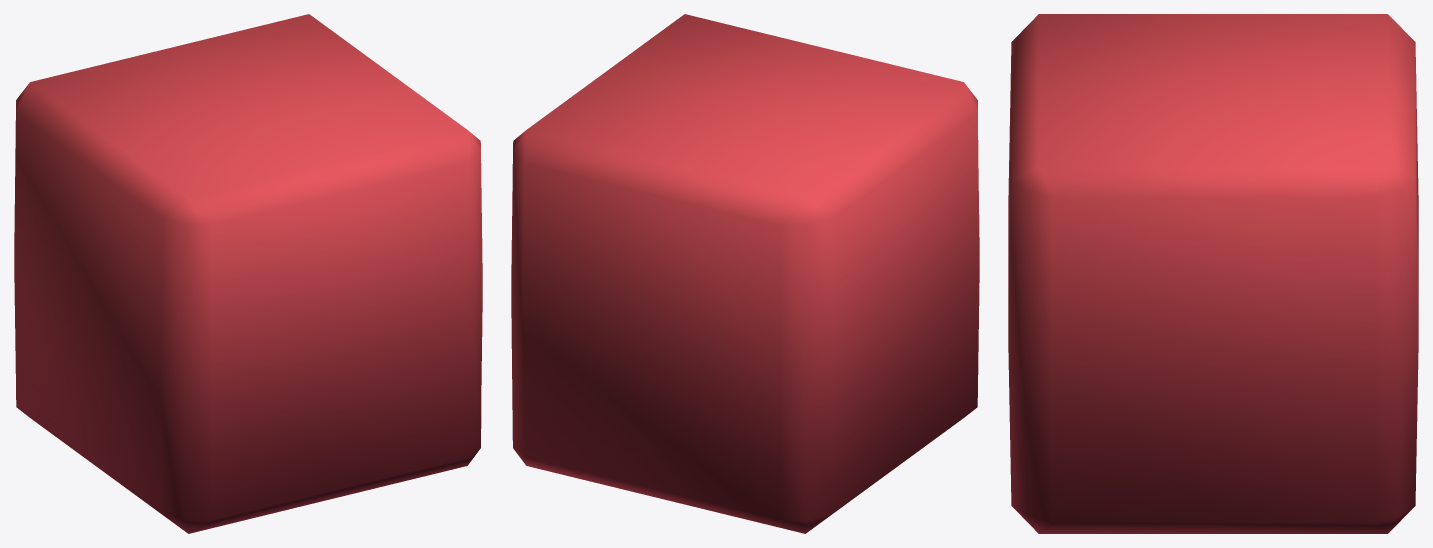
The model's file is block.fbx.
3 views of the same model, side by side, from view 1: azimuth 30°, elevation 25°; view 2: azimuth 150°, elevation 25°; view 3: azimuth 270°, elevation 25° (orthographic). The views are drawn at different scales.
Visible parts, largest first — view 1: Block; view 2: Block; view 3: Block.
Boxes of the visible parts, x1,y1,x2,y2 form: Block: (14,14,482,533); Block: (511,14,979,533); Block: (1008,14,1418,533).
Size of the model in its own units: 200 by 199 by 200.
